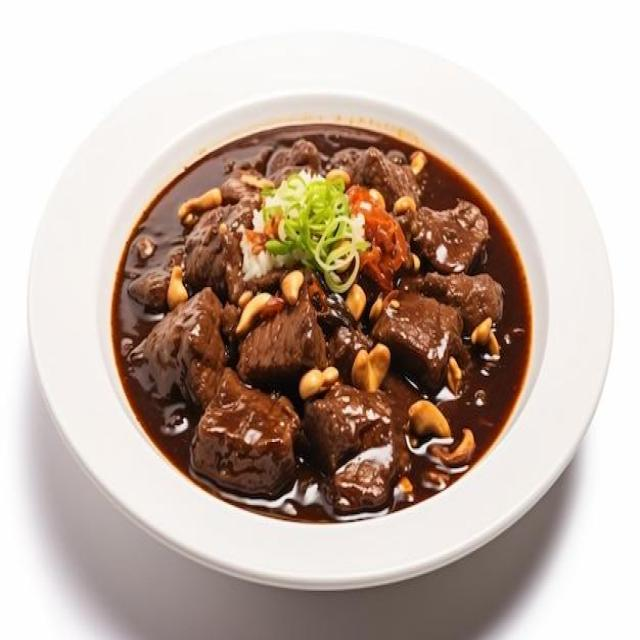Rawon: (130, 126, 510, 492)
